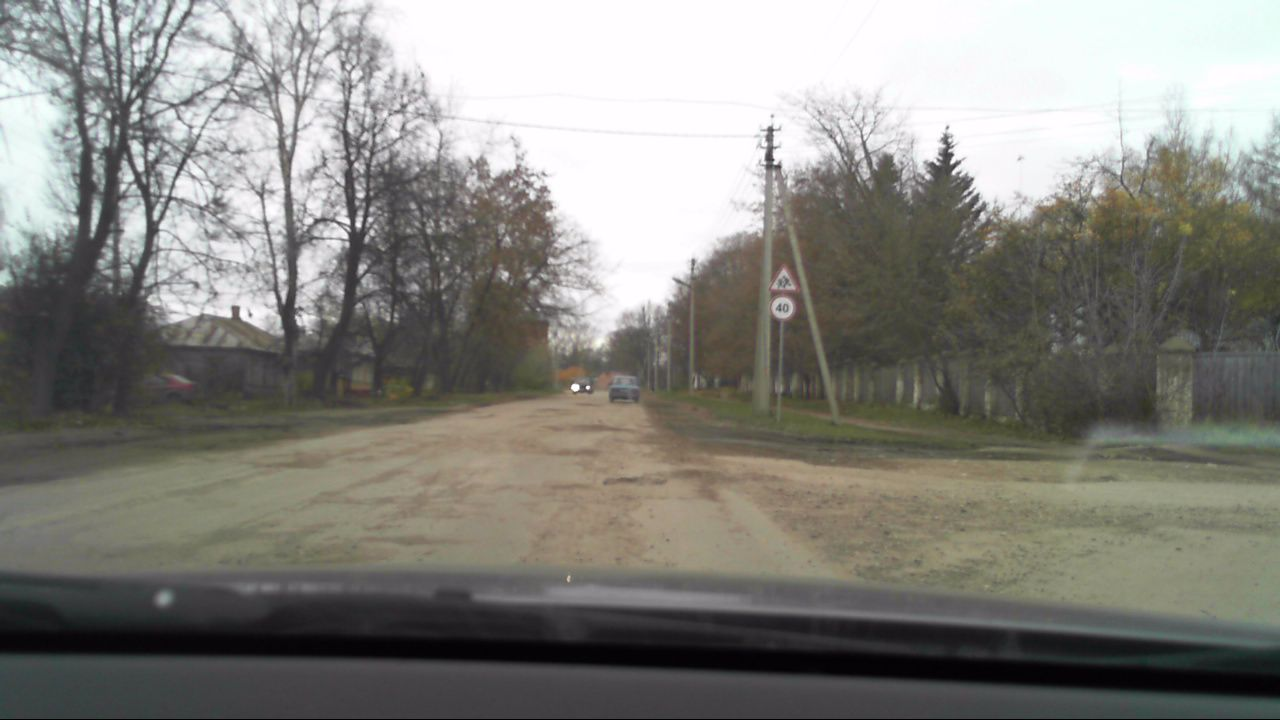speed_warning_40: (769, 294, 795, 319)
